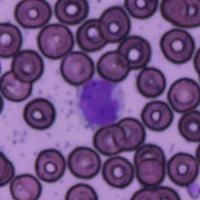M: (75, 76, 125, 128)
